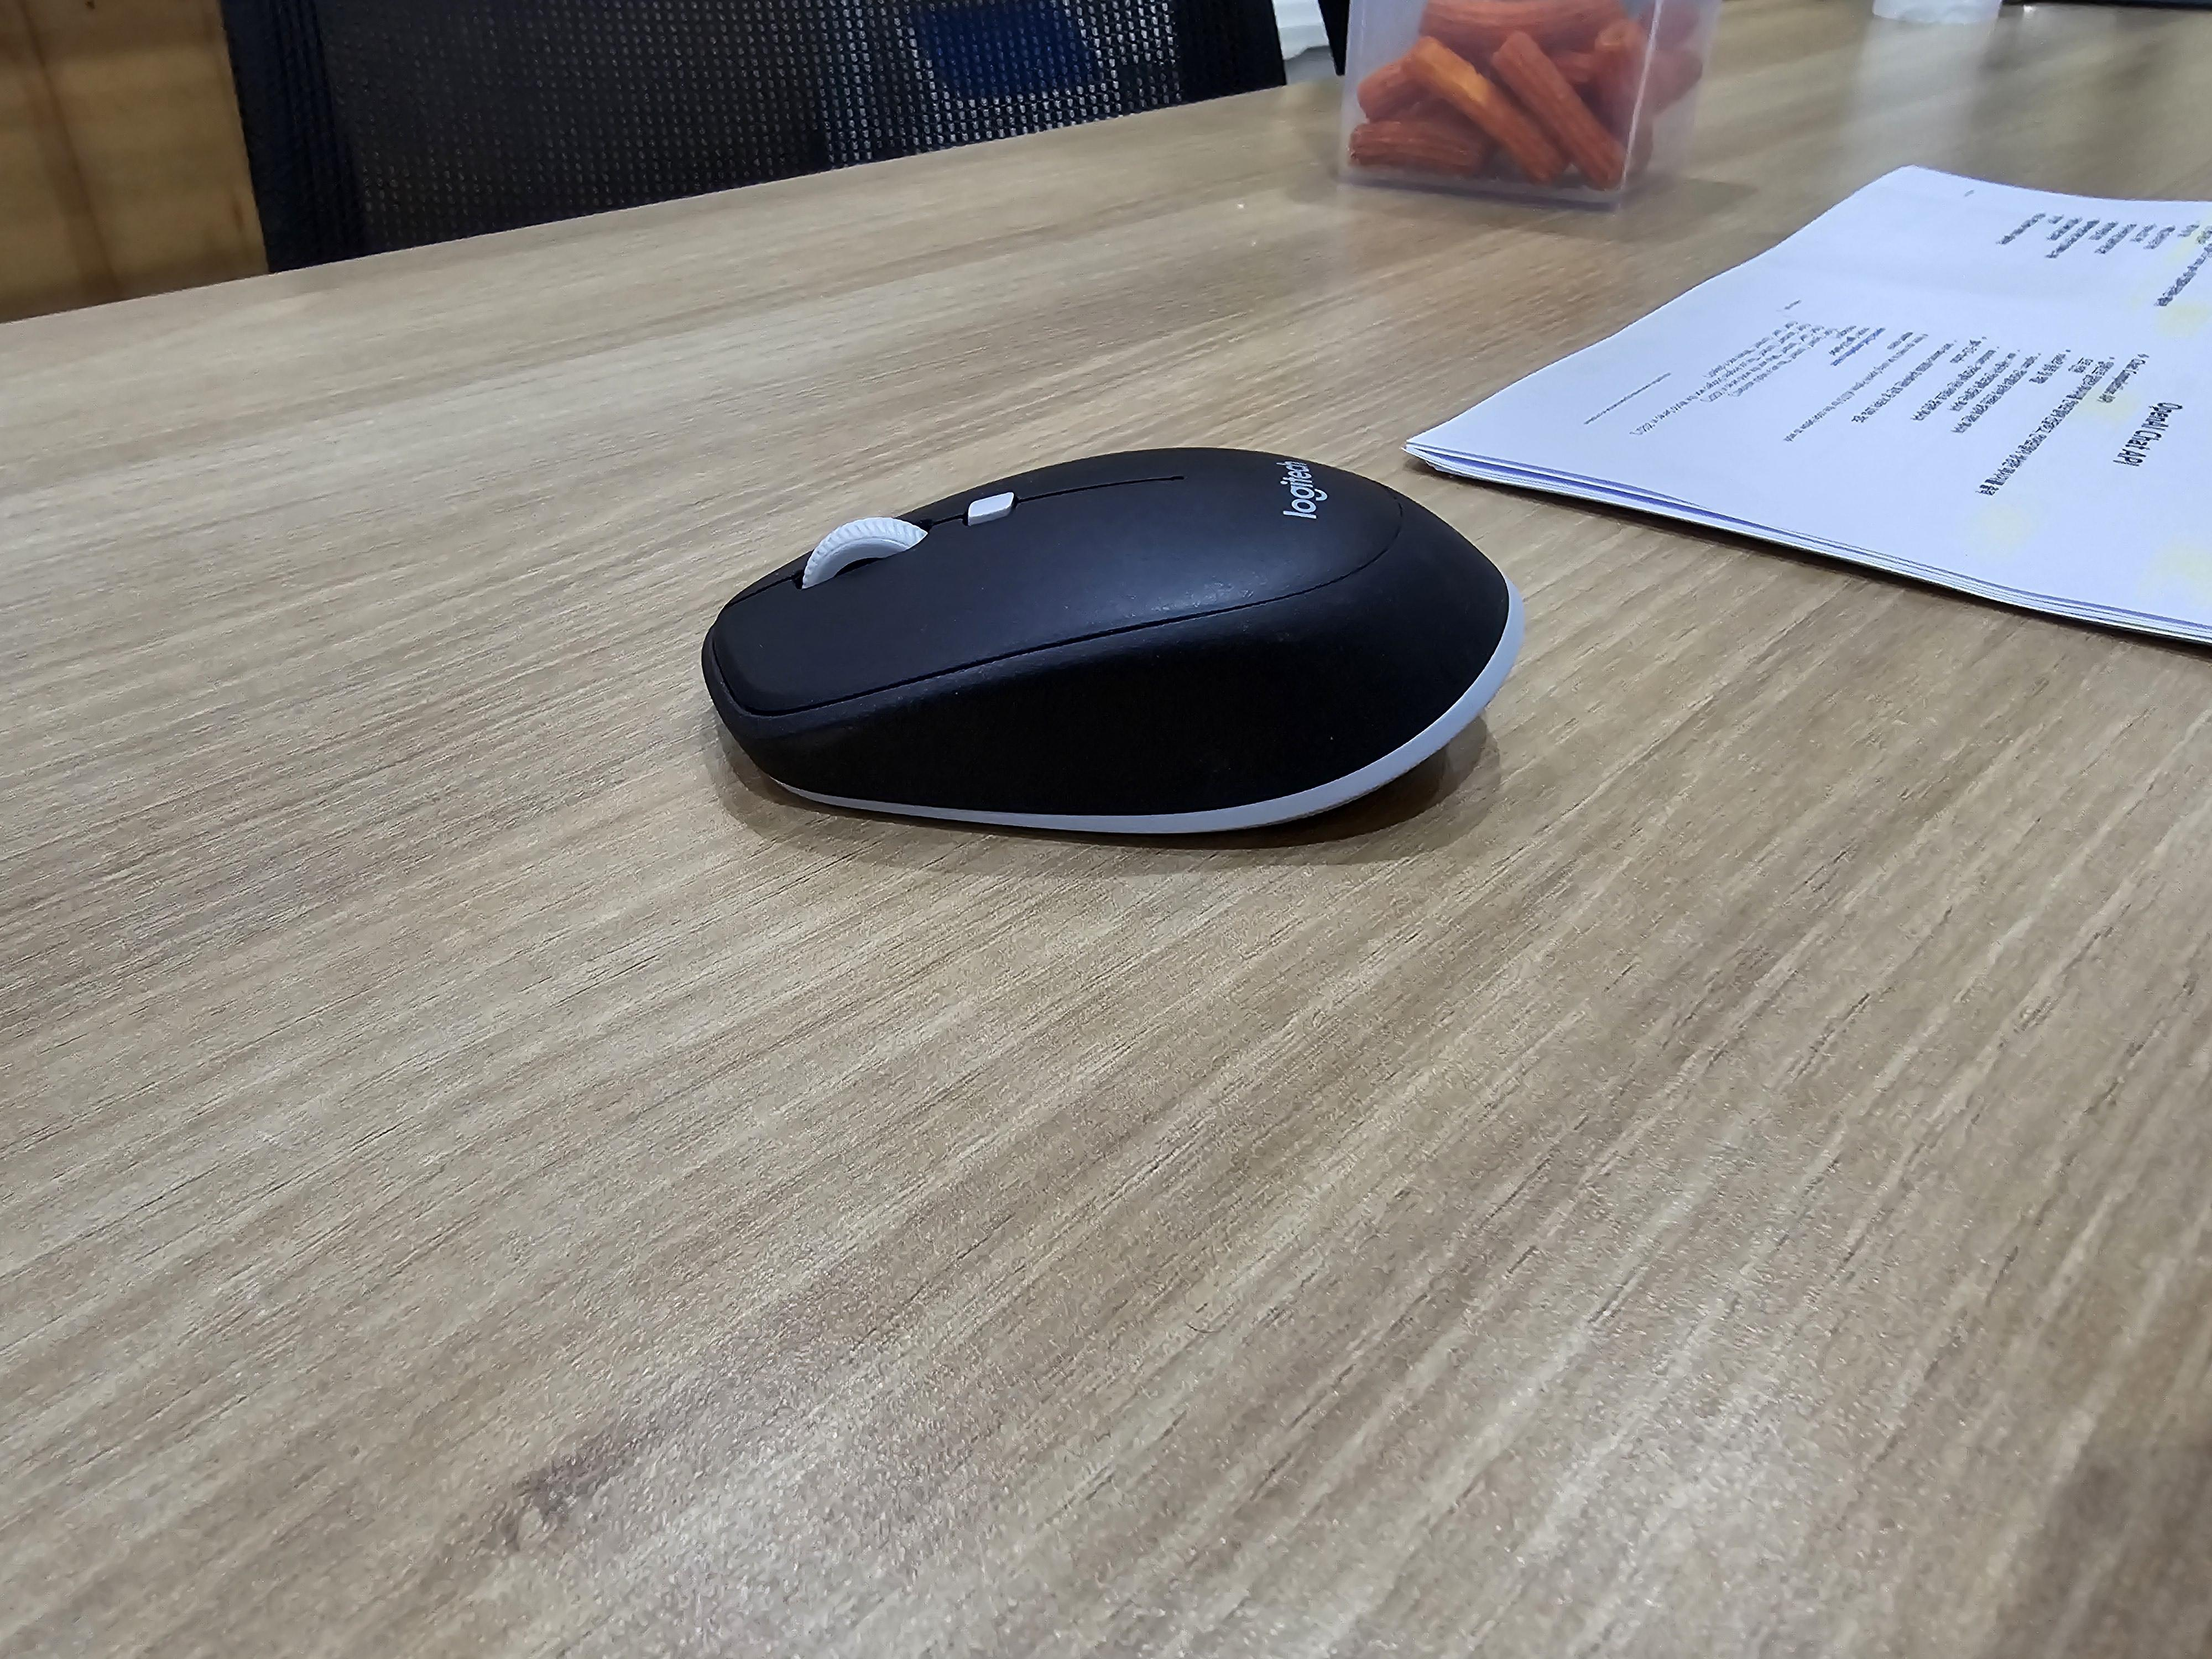book: (1402, 160, 2210, 648)
mouse: (698, 443, 1526, 838)
